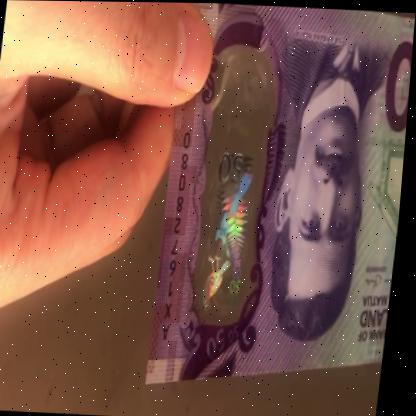50F: (200, 78, 271, 317)
